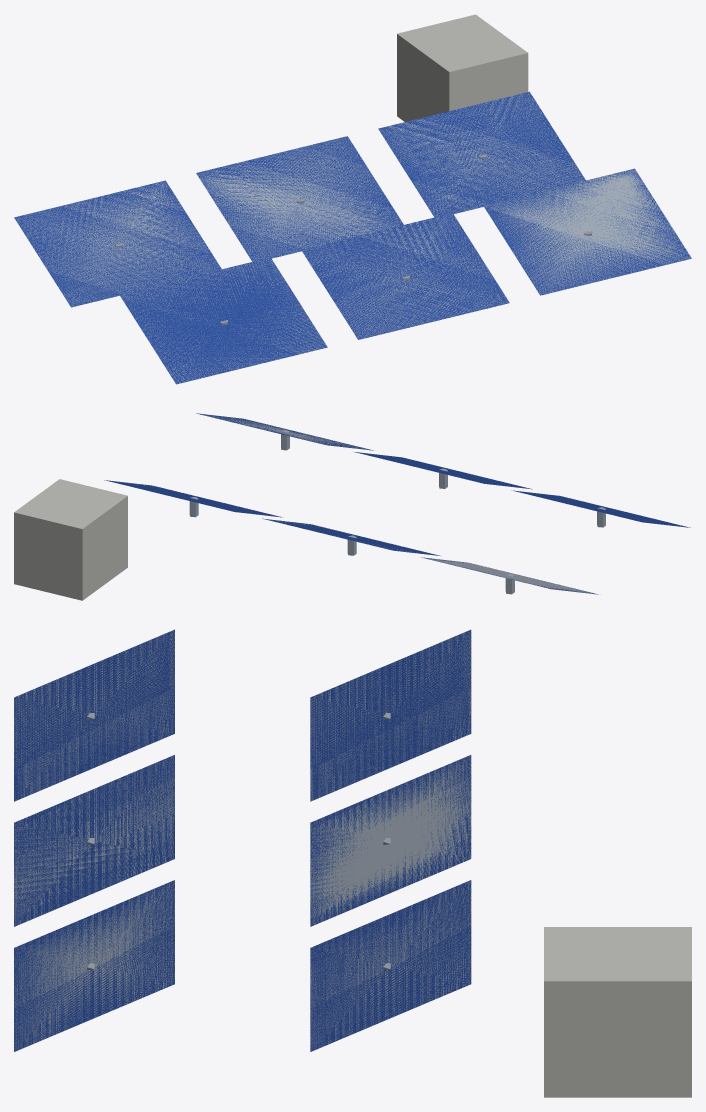
The model's file is building_solar_farm.fbx.
The picture shows the model from 3 angles, top to bottom: view 1: azimuth 30°, elevation 25°; view 2: azimuth 150°, elevation 25°; view 3: azimuth 270°, elevation 25°; orthographic projection. The views are drawn at different scales.
Parts seen in each view (by area): view 1: building_solar_farm; view 2: building_solar_farm; view 3: building_solar_farm.
Part boxes in pixels (x1=…): building_solar_farm: x1=14, y1=14, x2=691, y2=384; building_solar_farm: x1=14, y1=413, x2=690, y2=600; building_solar_farm: x1=14, y1=629, x2=691, y2=1097.
Bounding box in the file's own units: 89 × 13 × 68.66.
